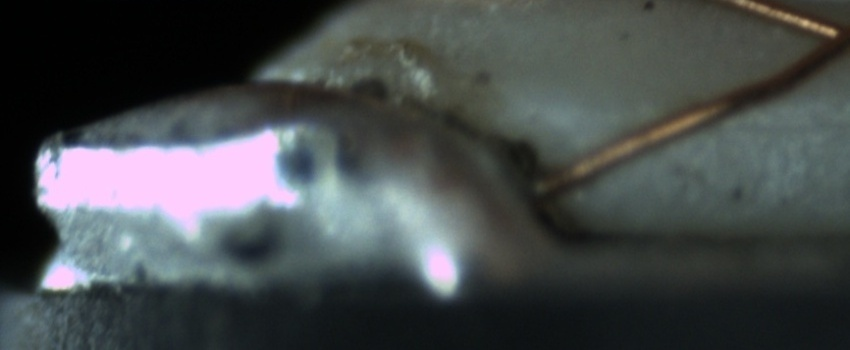CL: (795, 5, 850, 67)
DL: (706, 93, 850, 159)
